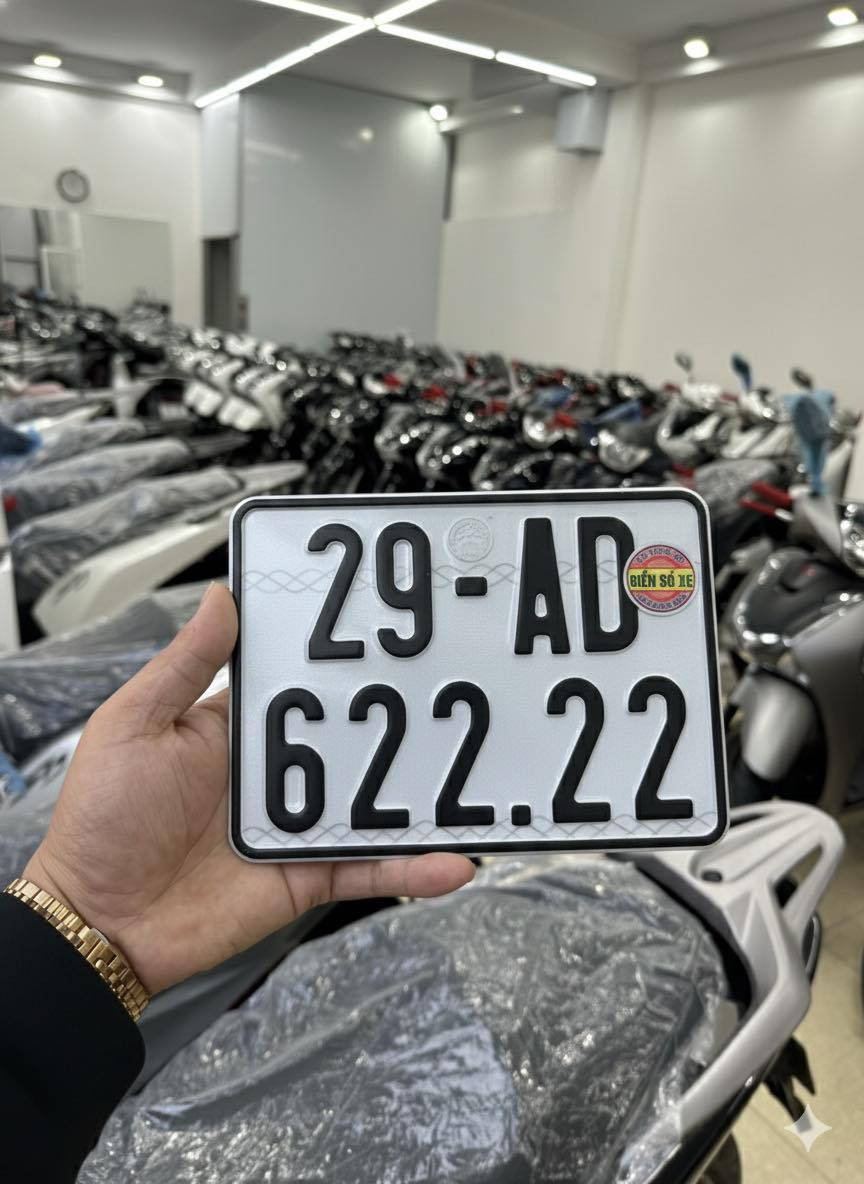bien_so: (220, 473, 751, 873)
